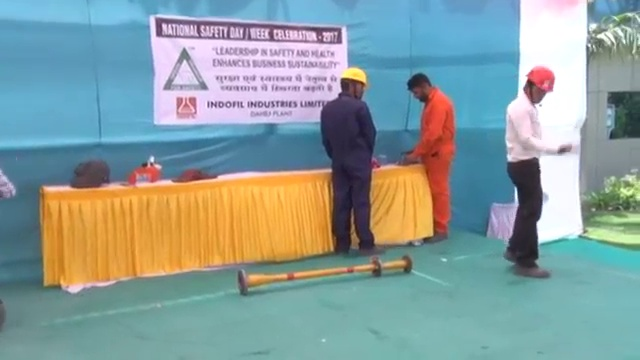helmet: (526, 64, 555, 91), (339, 65, 370, 87)
helmet_off: (407, 73, 436, 102)
helmet_on: (522, 64, 553, 107), (337, 65, 371, 100)
person: (505, 63, 573, 279), (319, 63, 377, 257), (403, 73, 454, 241)
